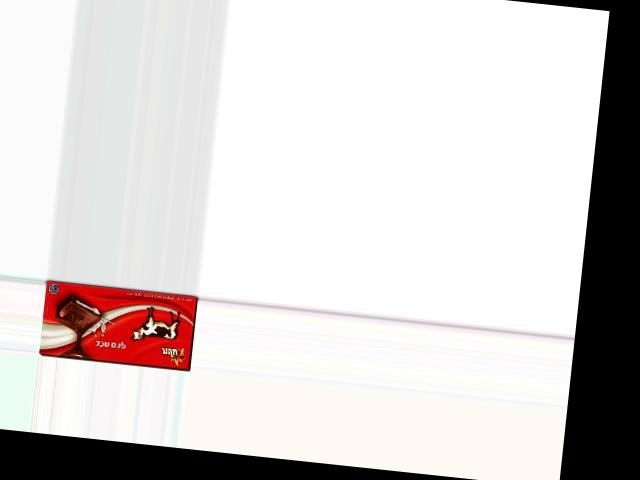chocolate: (39, 279, 201, 371)
